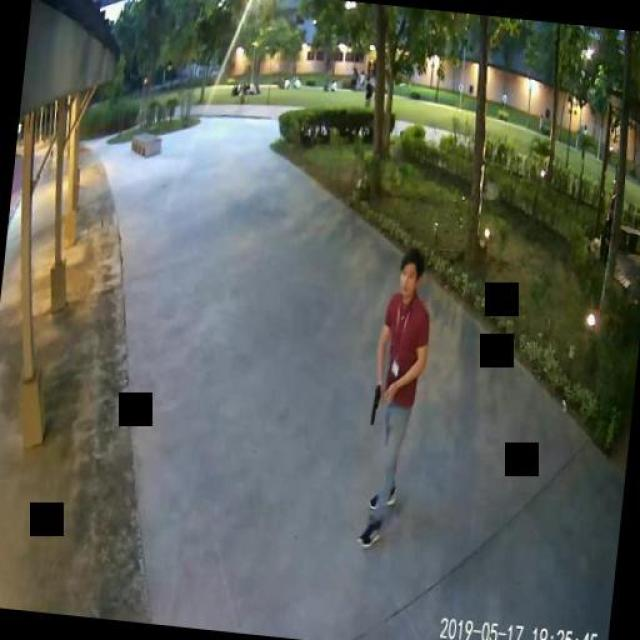gun: (368, 379, 384, 426)
